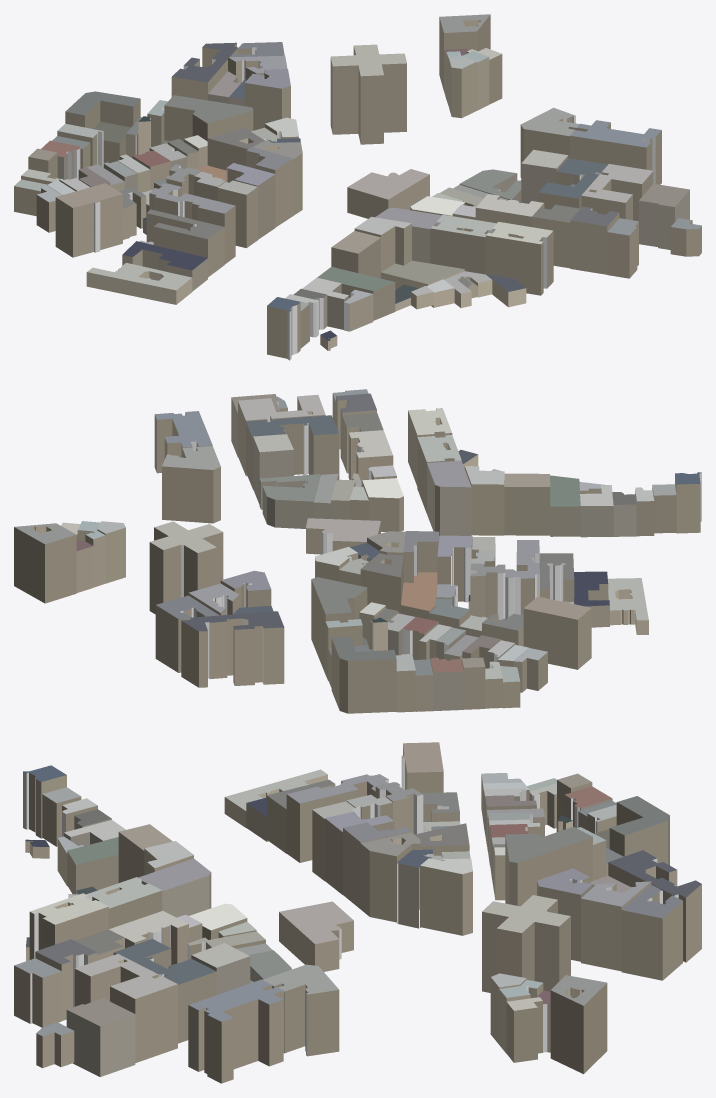
3 views of the same model, one above another, from view 1: azimuth 30°, elevation 25°; view 2: azimuth 150°, elevation 25°; view 3: azimuth 270°, elevation 25° (orthographic). The views are drawn at different scales.
Parts seen in each view (by area): view 1: tuile; view 2: tuile; view 3: tuile.
Boxes of the visible parts, <box> form: tuile: <box>14,14,701,360</box>; tuile: <box>14,389,701,713</box>; tuile: <box>14,742,701,1083</box>.
Size of the model in its own units: 284 by 39.11 by 273.
